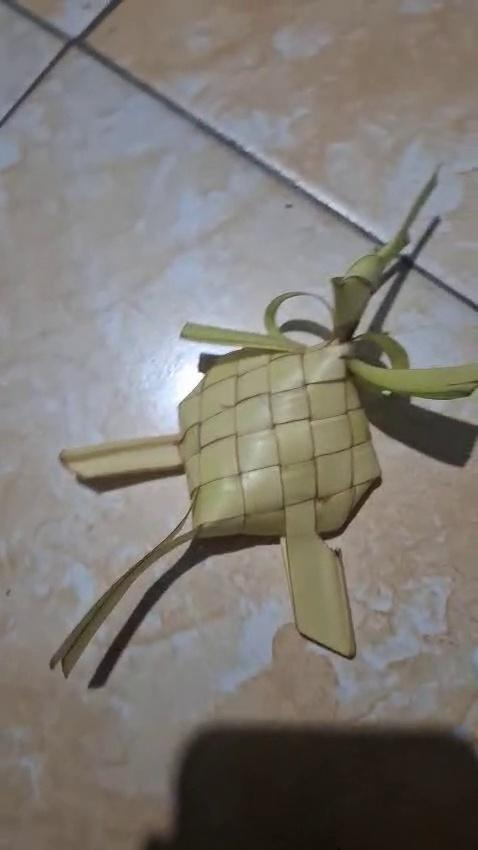Tipat Dampulan: (35, 162, 474, 679)
